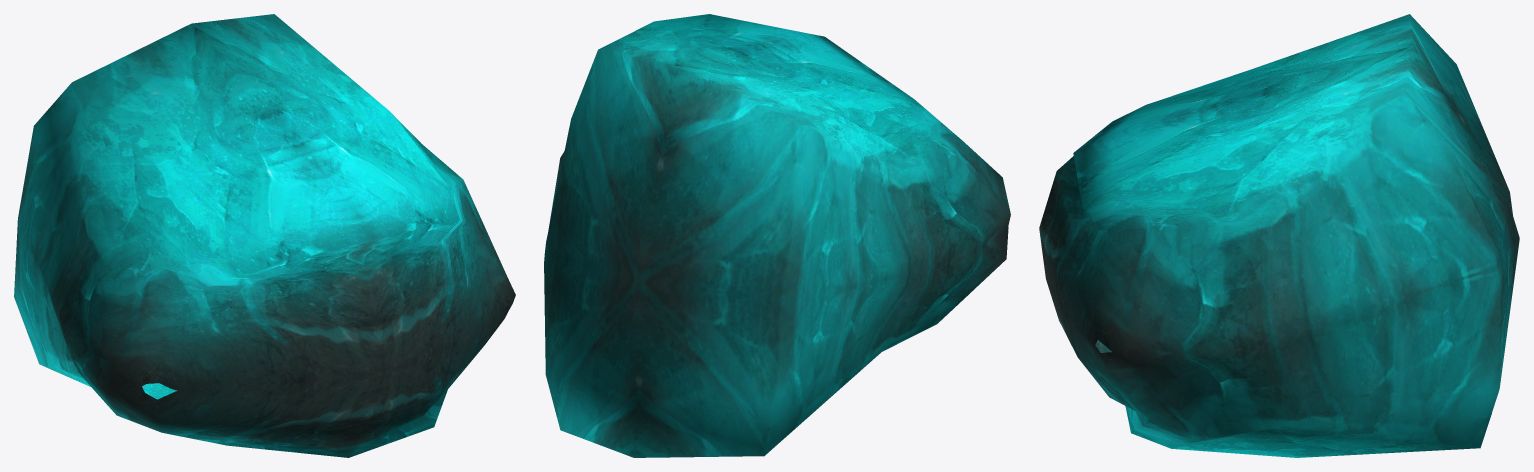
Rendered from icecrown_rock_05.obj.
3 renders of one model, left to right at view 1: azimuth 30°, elevation 25°; view 2: azimuth 150°, elevation 25°; view 3: azimuth 270°, elevation 25°, orthographic. The views are drawn at different scales.
Parts seen in each view (by area): view 1: icecrown_rock_05; view 2: icecrown_rock_05; view 3: icecrown_rock_05.
Part boxes in pixels (box(x1,y1,x2,y2)): icecrown_rock_05: box(14, 14, 515, 457); icecrown_rock_05: box(544, 14, 1010, 457); icecrown_rock_05: box(1039, 14, 1519, 457).
Bounding box in the file's own units: 0.6276 × 0.5331 × 0.6323.
